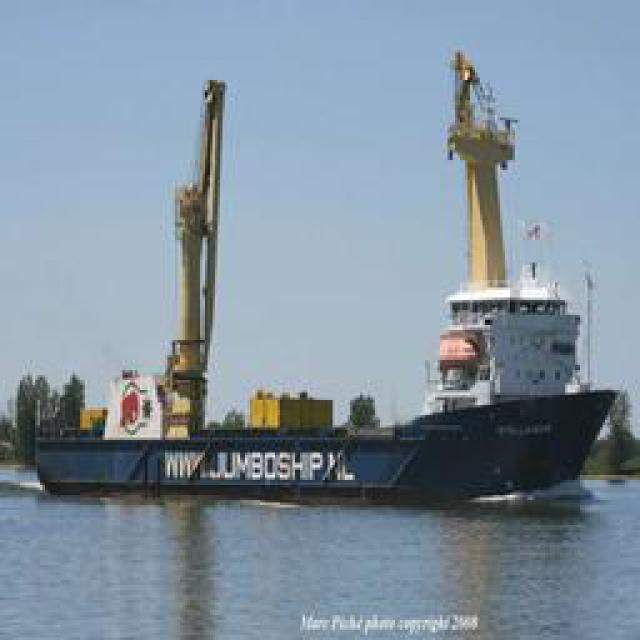Ship: (403, 65, 618, 498)
